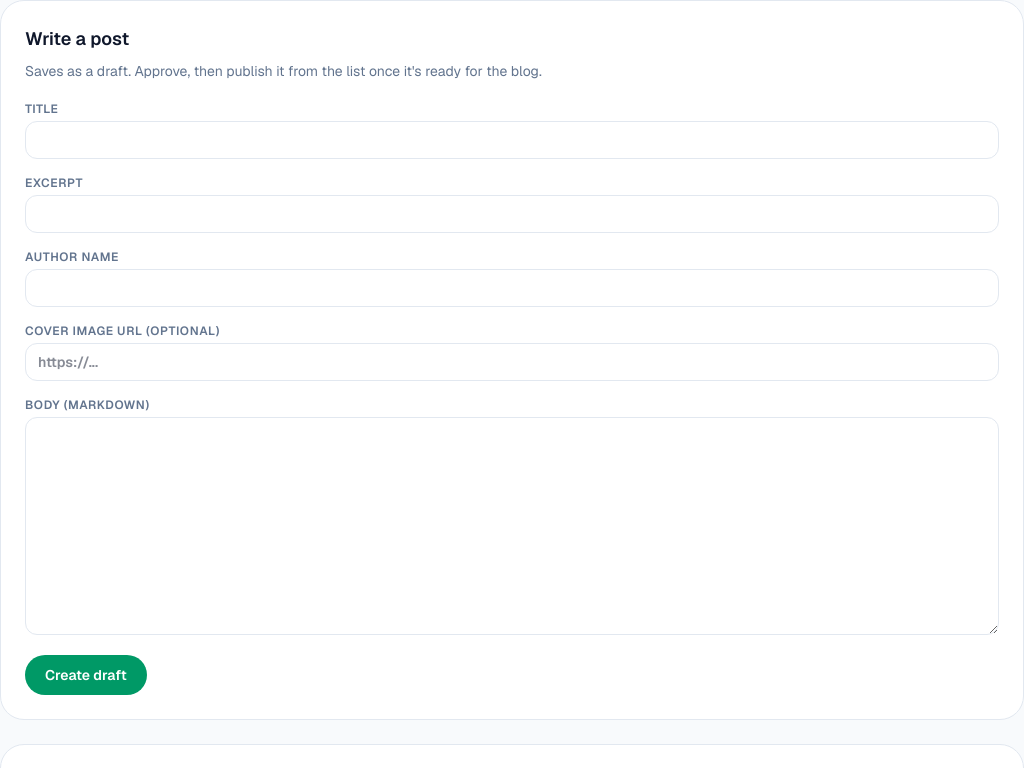
Test: AdminBlog › surfaces the service's own error for a failed create
Type "A short primer." into the field labelled "Excerpt" at (512, 214), box [25, 195, 999, 233]
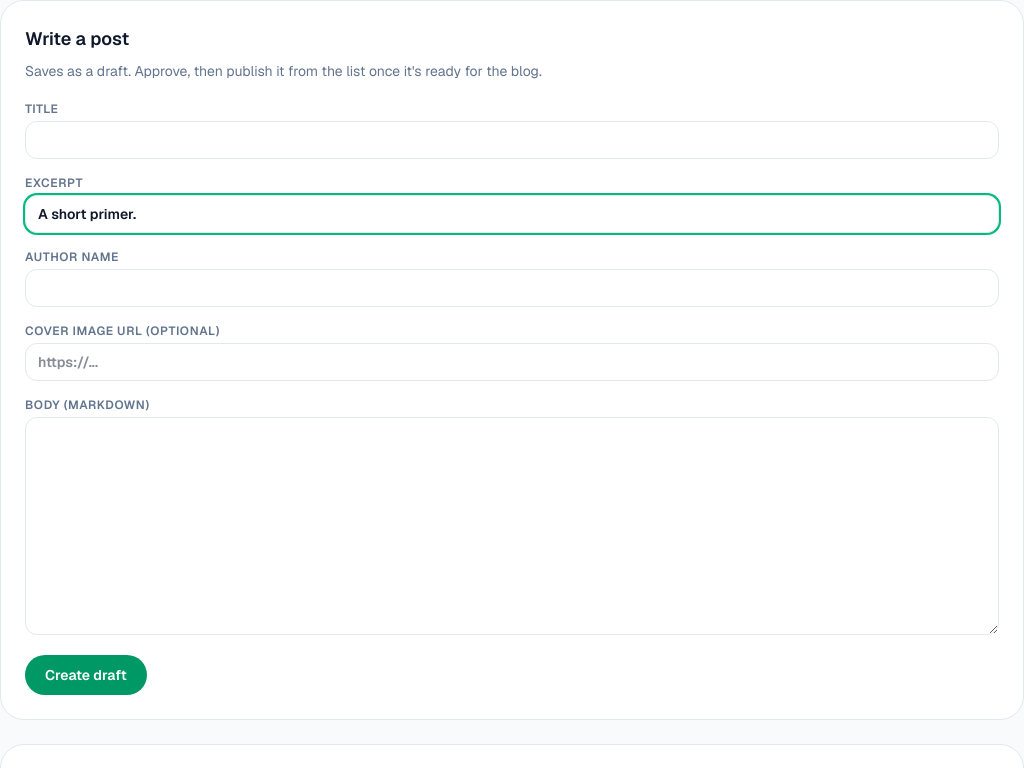
Type "StockersAI Team" into the field labelled "Author name" at (512, 288), box [25, 269, 999, 307]
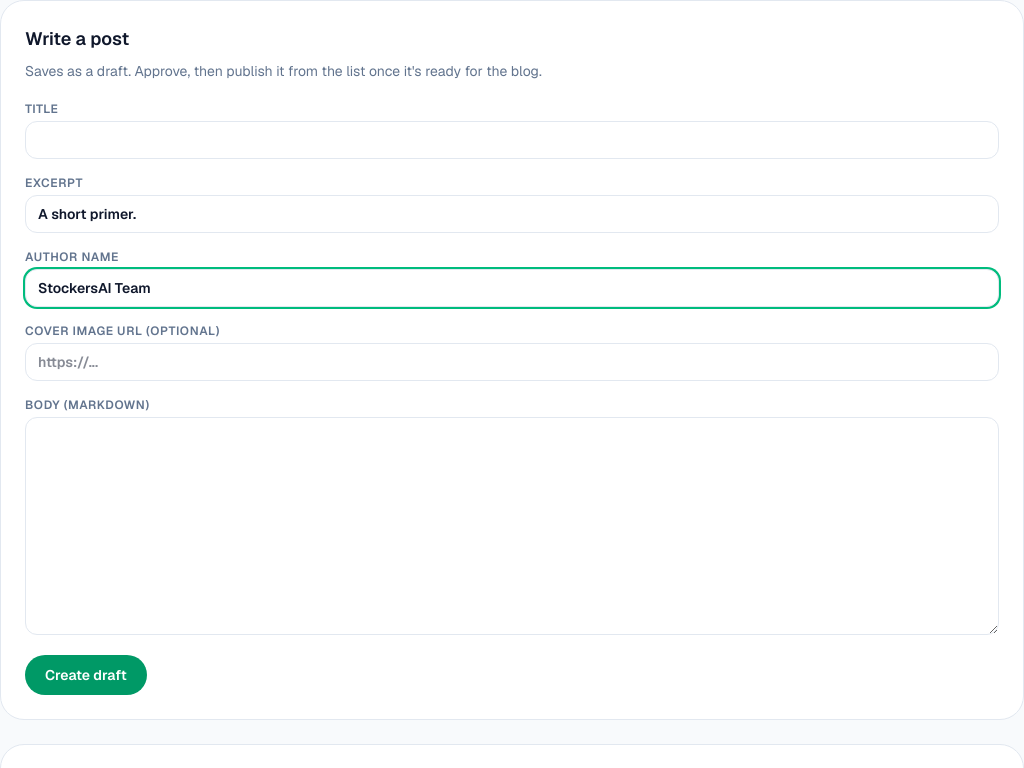
Type "Body text here, well over twenty characters." into the text box labelled "Body (Markdown)" at (512, 526), box [25, 417, 999, 635]
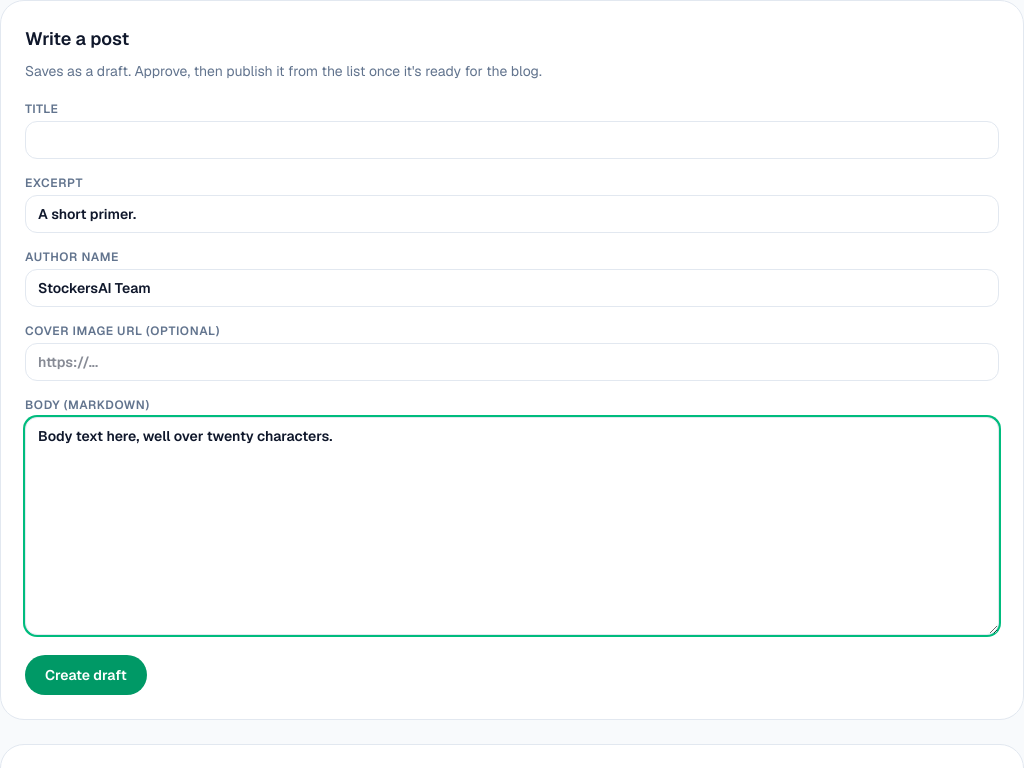
Submit the form named "Create draft"
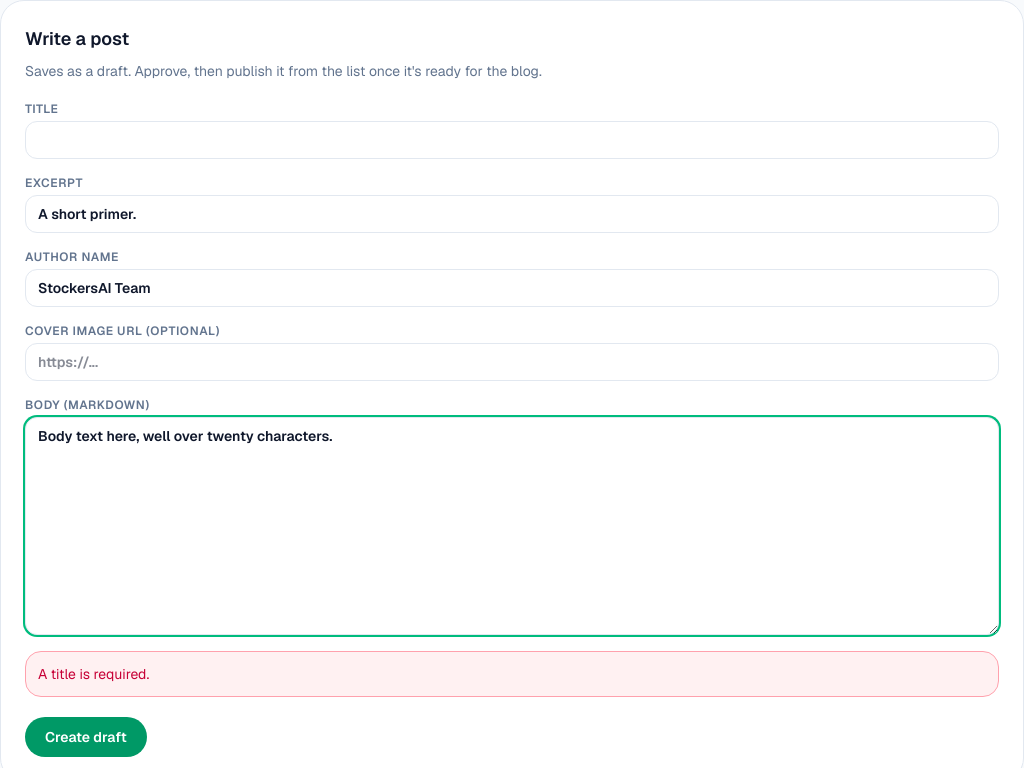
Check: the text "A title is required." is shown, box [25, 651, 999, 697]
